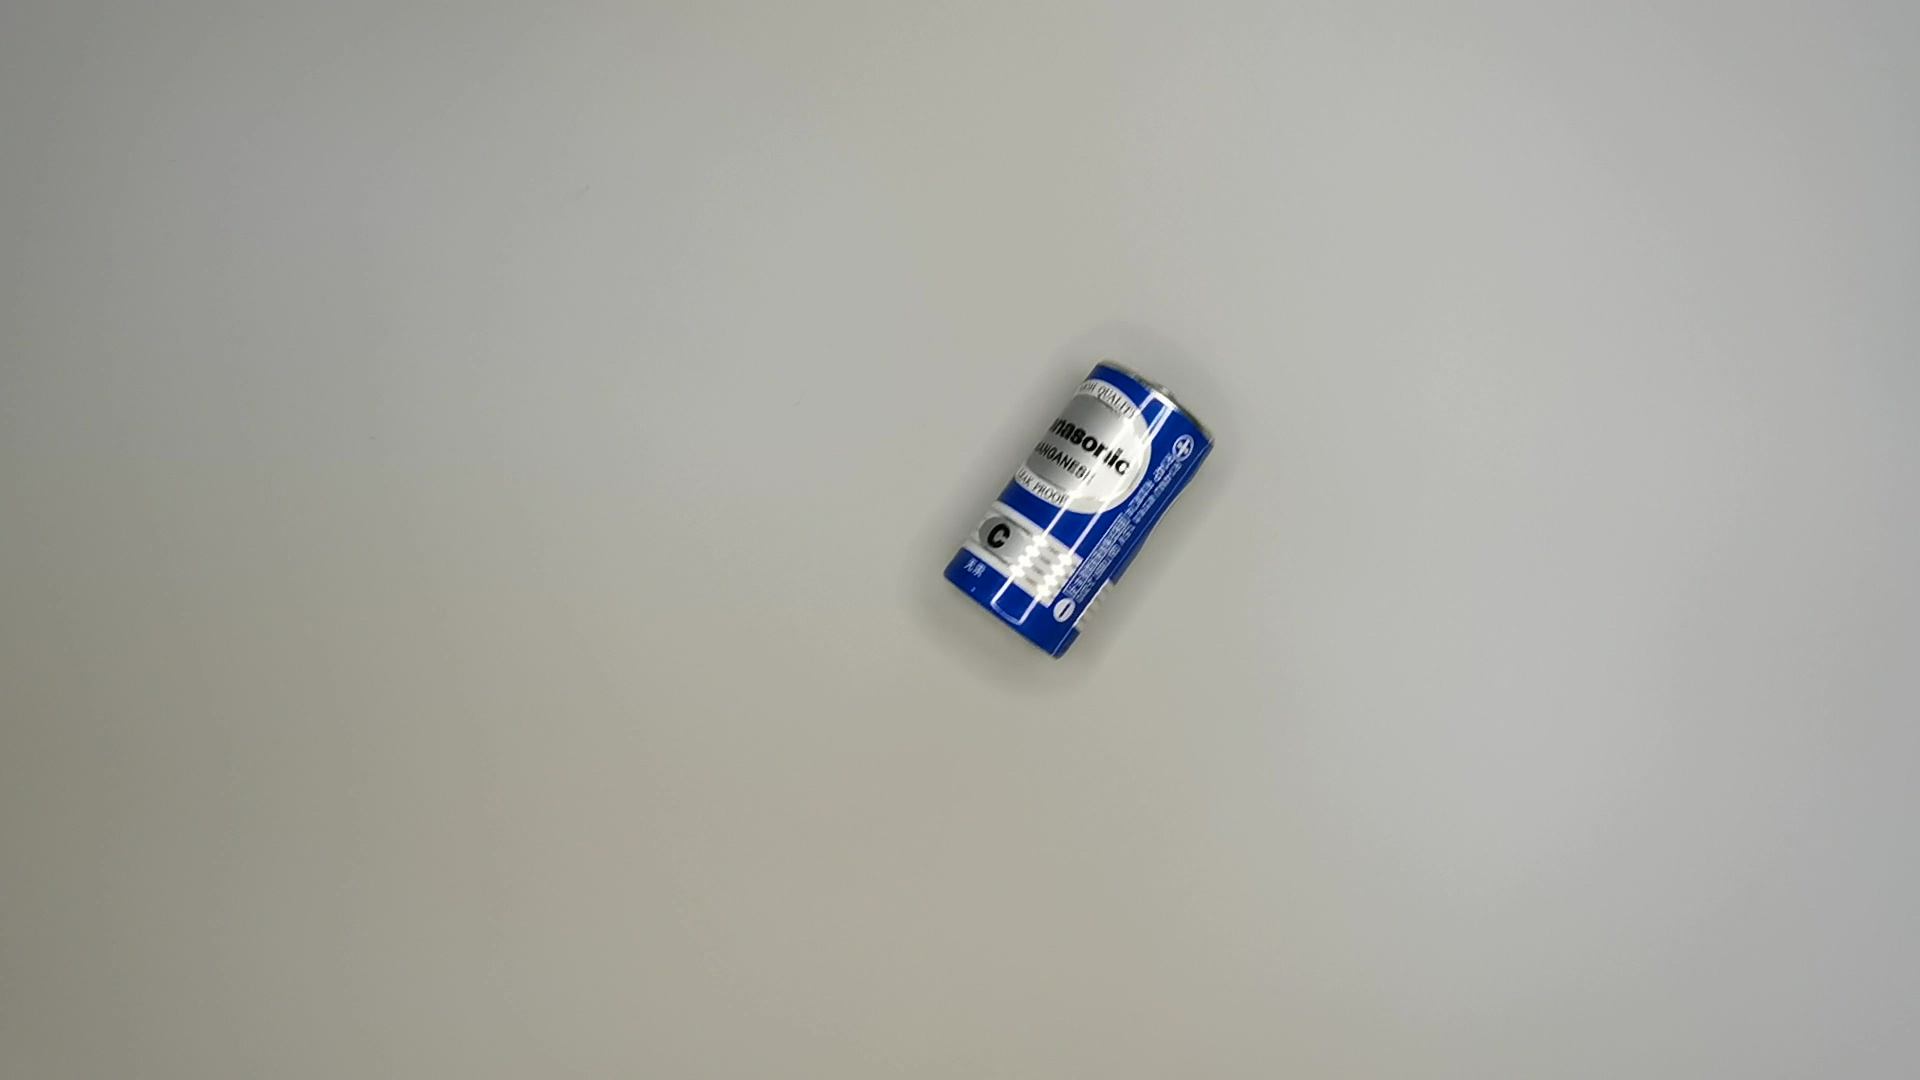battery: (932, 349, 1226, 667)
